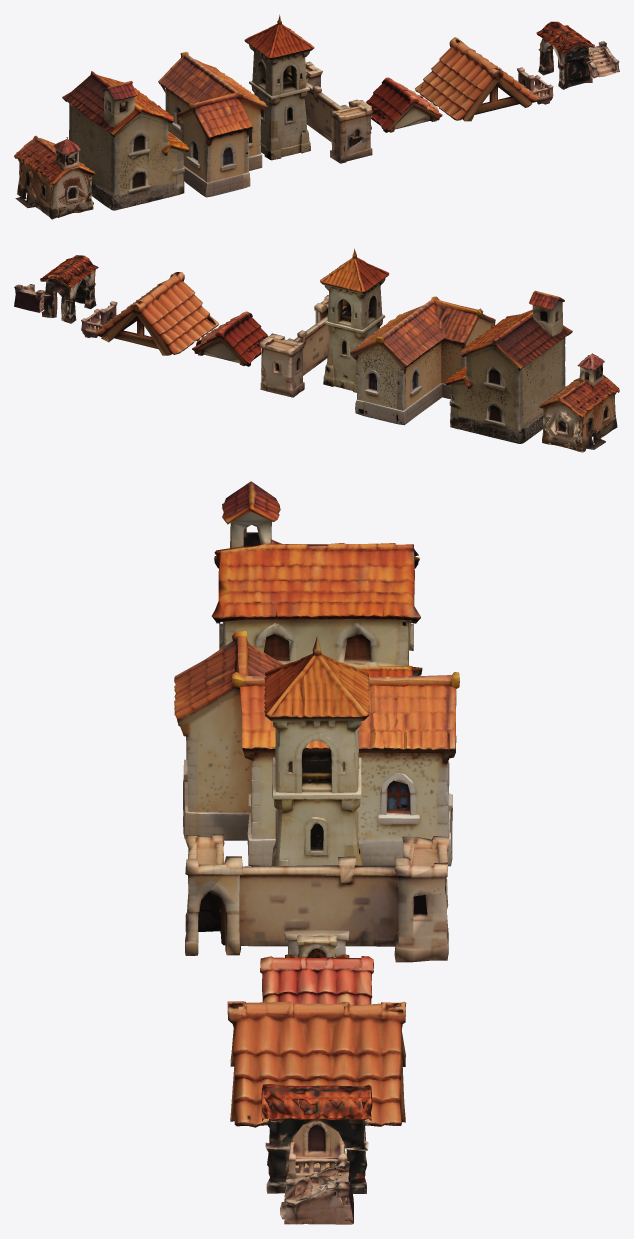
File: city_building_kit.glb
3 views of the same model, one above another, from view 1: azimuth 30°, elevation 25°; view 2: azimuth 150°, elevation 25°; view 3: azimuth 270°, elevation 25° (orthographic). The views are drawn at different scales.
Visible parts, largest first — view 1: medium_house, corner_house, tower, roof_medium, small_house, wall_section, archway, roof_small, stairs, balcony; view 2: medium_house, corner_house, tower, roof_medium, small_house, wall_section, archway, roof_small, stairs, balcony; view 3: corner_house, medium_house, wall_section, tower, roof_medium, archway, roof_small, stairs, balcony.
Part boxes in pixels (x1,y1,x2,y2): medium_house: [62, 71, 189, 210]; corner_house: [158, 51, 267, 197]; tower: [244, 14, 314, 160]; roof_medium: [415, 37, 537, 121]; small_house: [14, 135, 95, 219]; wall_section: [304, 61, 372, 163]; archway: [536, 21, 594, 89]; roof_small: [366, 77, 442, 132]; stairs: [588, 41, 619, 78]; balcony: [517, 67, 553, 104]; medium_house: [445, 290, 572, 443]; corner_house: [350, 296, 495, 425]; tower: [320, 248, 389, 392]; roof_medium: [96, 272, 218, 355]; small_house: [538, 353, 619, 452]; wall_section: [259, 295, 329, 397]; archway: [40, 255, 98, 323]; roof_small: [192, 311, 267, 366]; stairs: [14, 284, 44, 312]; balcony: [81, 301, 117, 337]; corner_house: [174, 631, 459, 866]; medium_house: [211, 481, 422, 676]; wall_section: [185, 834, 448, 962]; tower: [264, 636, 369, 865]; roof_medium: [227, 1001, 406, 1127]; archway: [261, 1084, 372, 1193]; roof_small: [260, 956, 373, 1005]; stairs: [280, 1161, 353, 1224]; balcony: [287, 1121, 346, 1178].
Bounding box in the file's own units: 64.42 × 16.02 × 13.65.
1 material, 1 textured.
